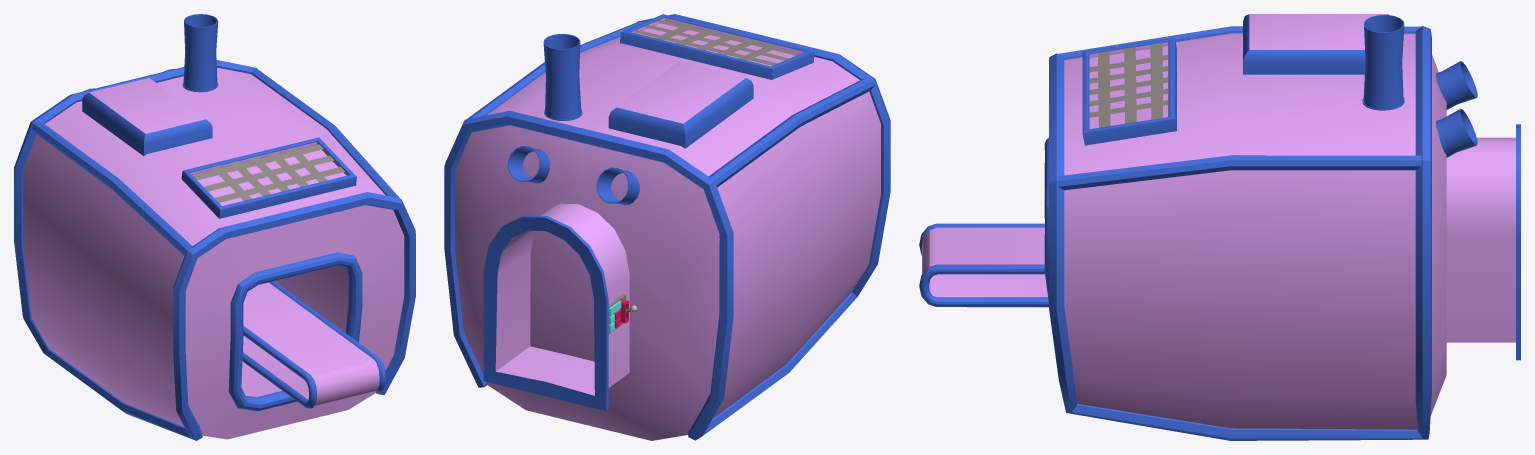
File: pres_machine_03.fbx
The picture shows the model from 3 angles, left to right: view 1: azimuth 30°, elevation 25°; view 2: azimuth 150°, elevation 25°; view 3: azimuth 270°, elevation 25°; orthographic projection. The views are drawn at different scales.
Visible parts, largest first — view 1: pres_machine_03; view 2: pres_machine_03; view 3: pres_machine_03.
Boxes of the visible parts, x1,y1,x2,y2 form: pres_machine_03: [14, 14, 415, 440]; pres_machine_03: [444, 14, 890, 440]; pres_machine_03: [919, 14, 1520, 440].
Bounding box in the file's own units: 753 × 899 × 1237.
